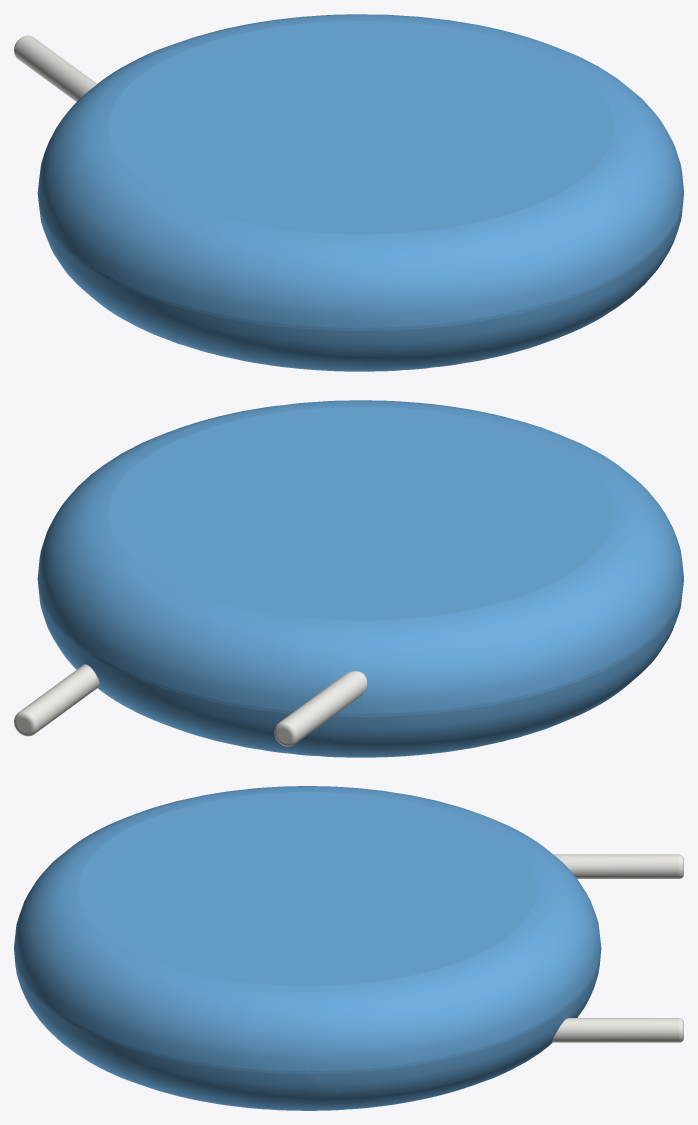
The model's file is RV_Disc_D21.5mm_W4.8mm_P10mm.glb.
3 views of the same model, one above another, from view 1: azimuth 30°, elevation 25°; view 2: azimuth 150°, elevation 25°; view 3: azimuth 270°, elevation 25° (orthographic). The views are drawn at different scales.
Visible parts, largest first — view 1: Shape_IndexedFaceSet.003, Shape_IndexedFaceSet.001, Shape_IndexedFaceSet.002, Shape_IndexedFaceSet, Shape_IndexedFaceSet.004; view 2: Shape_IndexedFaceSet.003, Shape_IndexedFaceSet.001, Shape_IndexedFaceSet.002, Shape_IndexedFaceSet.004, Shape_IndexedFaceSet, Shape_IndexedFaceSet.006; view 3: Shape_IndexedFaceSet.003, Shape_IndexedFaceSet.001, Shape_IndexedFaceSet.002, Shape_IndexedFaceSet.006, Shape_IndexedFaceSet.004, Shape_IndexedFaceSet.
Part boxes in pixels (<box>): Shape_IndexedFaceSet.003: <box>108,21,613,234</box>; Shape_IndexedFaceSet.001: <box>38,14,683,327</box>; Shape_IndexedFaceSet.002: <box>38,199,683,371</box>; Shape_IndexedFaceSet: <box>37,192,683,330</box>; Shape_IndexedFaceSet.004: <box>14,36,96,101</box>; Shape_IndexedFaceSet.003: <box>108,407,613,620</box>; Shape_IndexedFaceSet.001: <box>37,400,683,713</box>; Shape_IndexedFaceSet.002: <box>38,583,682,757</box>; Shape_IndexedFaceSet.004: <box>280,671,366,743</box>; Shape_IndexedFaceSet: <box>37,578,683,716</box>; Shape_IndexedFaceSet.006: <box>20,664,99,732</box>; Shape_IndexedFaceSet.003: <box>78,792,536,986</box>; Shape_IndexedFaceSet.001: <box>14,786,601,1071</box>; Shape_IndexedFaceSet.002: <box>14,953,600,1110</box>; Shape_IndexedFaceSet.006: <box>551,1018,678,1042</box>; Shape_IndexedFaceSet.004: <box>553,854,678,878</box>; Shape_IndexedFaceSet: <box>14,948,601,1073</box>.
Size of the model in its own units: 8.47 by 1.89 by 9.66.
